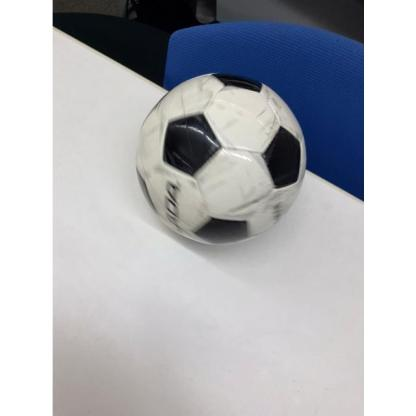ball: (136, 74, 306, 246)
